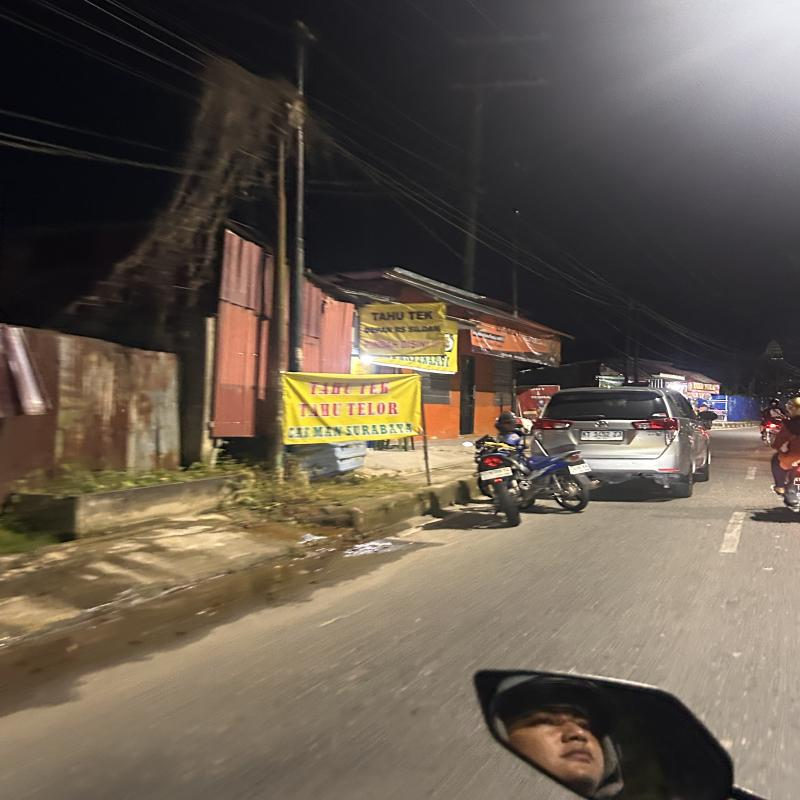license plate on a car: (579, 425, 631, 444)
